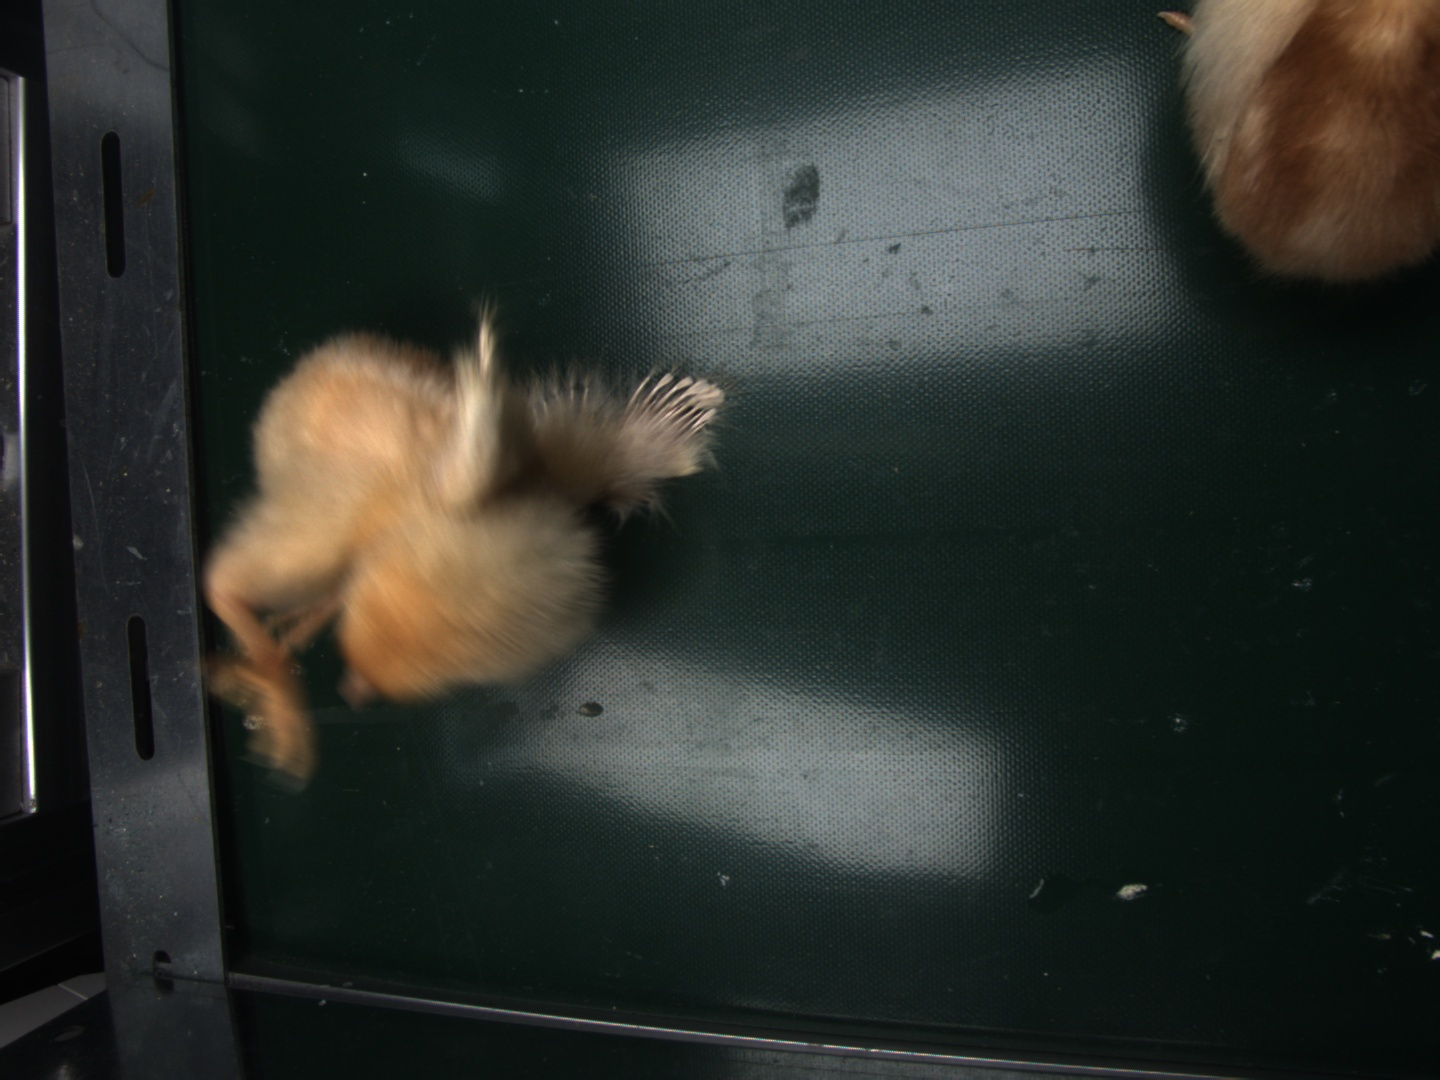female: (635, 371, 728, 439)
